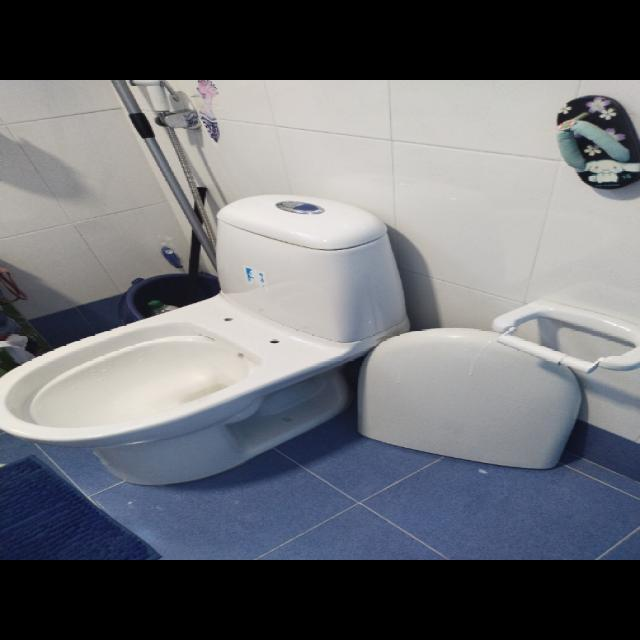toilet: (0, 193, 410, 486)
